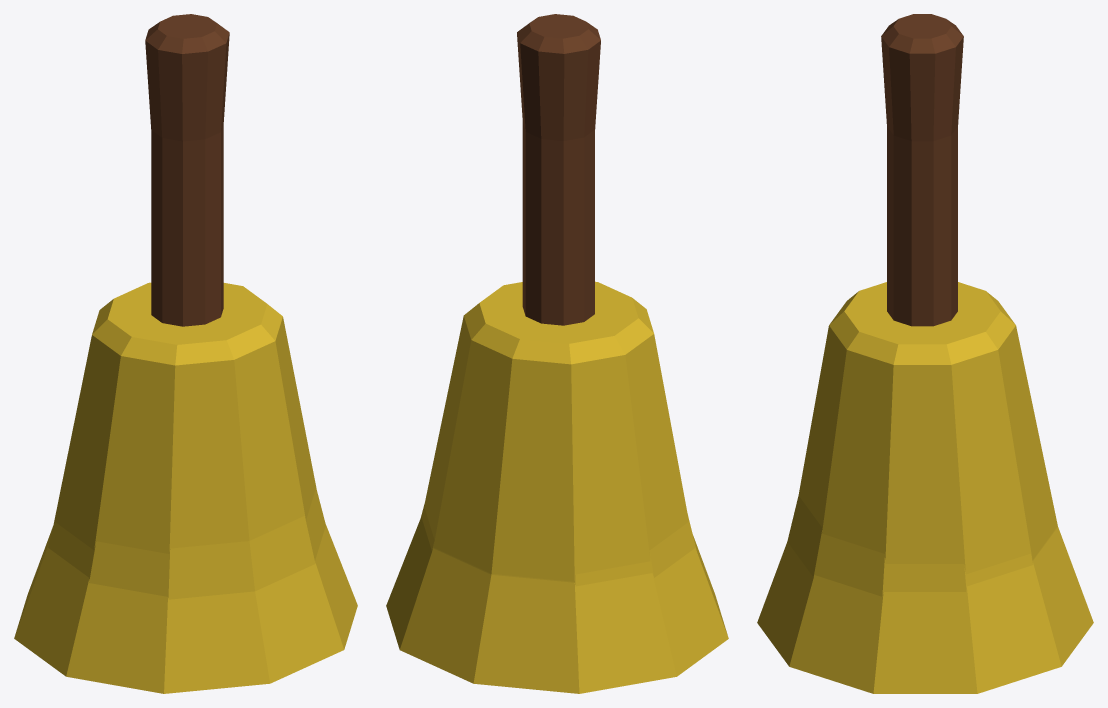
The model's file is bell.obj.
The picture shows the model from 3 angles, left to right: view 1: azimuth 30°, elevation 25°; view 2: azimuth 150°, elevation 25°; view 3: azimuth 270°, elevation 25°; orthographic projection.
Parts seen in each view (by area): view 1: Cylinder_Cylinder.002; view 2: Cylinder_Cylinder.002; view 3: Cylinder_Cylinder.002.
Boxes of the visible parts, box(x1,y1,x2,y2) form: Cylinder_Cylinder.002: box(14, 14, 357, 693); Cylinder_Cylinder.002: box(386, 14, 728, 693); Cylinder_Cylinder.002: box(757, 14, 1093, 693).
Size of the model in its own units: 1.52 by 2.96 by 1.52.
